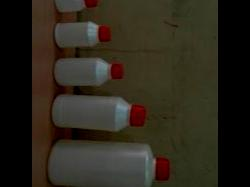Plastic: (46, 137, 173, 186), (50, 92, 149, 132), (52, 0, 100, 15)
